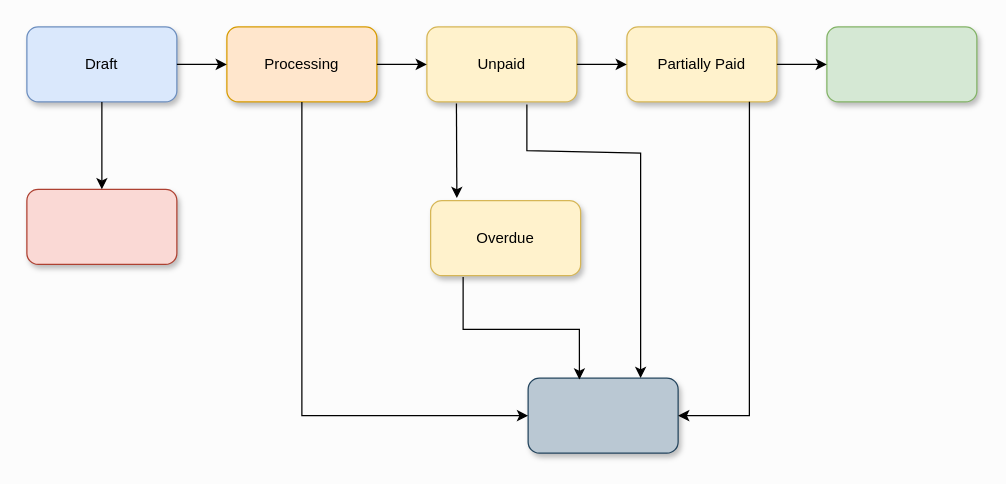
Image size: 1006x484. Some labels were removed from this diagram. Here are the shapes that lost their labels. From the top down, the centre of each, then its label:
the point at 902,66: Paid
the point at 102,228: Delete
the point at 604,417: Cancelled
